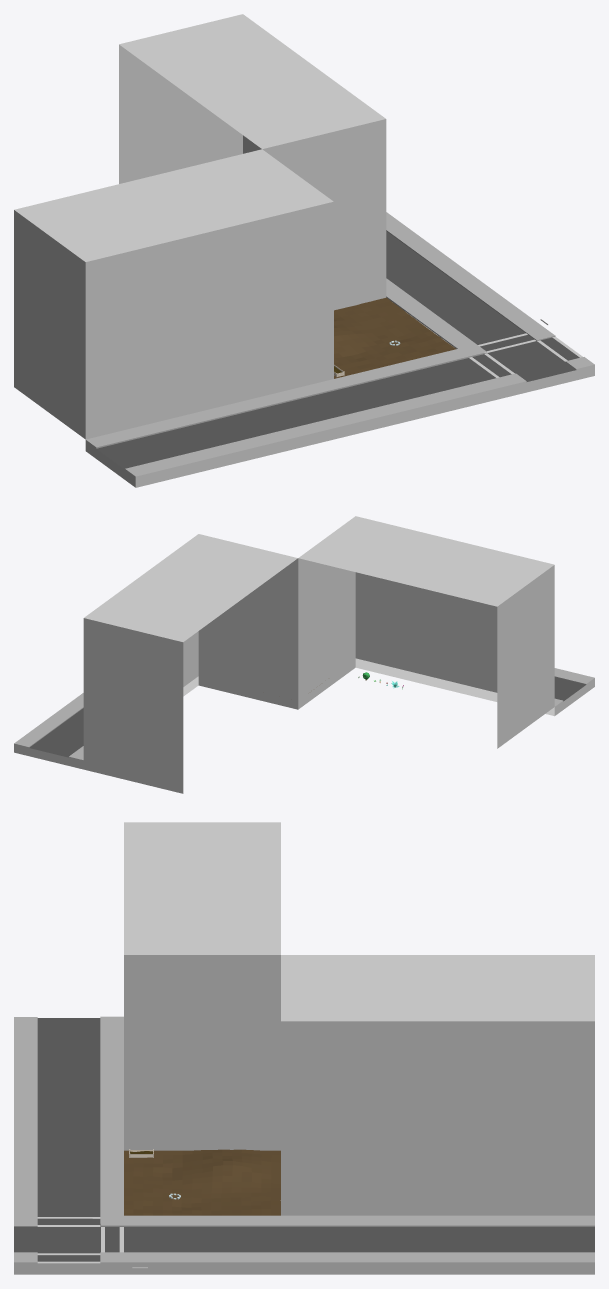
3 views of the same model, one above another, from view 1: azimuth 30°, elevation 25°; view 2: azimuth 150°, elevation 25°; view 3: azimuth 270°, elevation 25° (orthographic). The views are drawn at different scales.
Visible parts, largest first — view 1: City, Ground; view 2: City; view 3: City, Ground.
Part boxes in pixels (bbox=[...]): City: bbox=[14, 14, 594, 487]; Ground: bbox=[334, 297, 456, 378]; City: bbox=[14, 516, 594, 793]; City: bbox=[14, 822, 594, 1274]; Ground: bbox=[124, 1149, 280, 1215].
Bounding box in the file's own units: 75.17 × 29.13 × 74.
